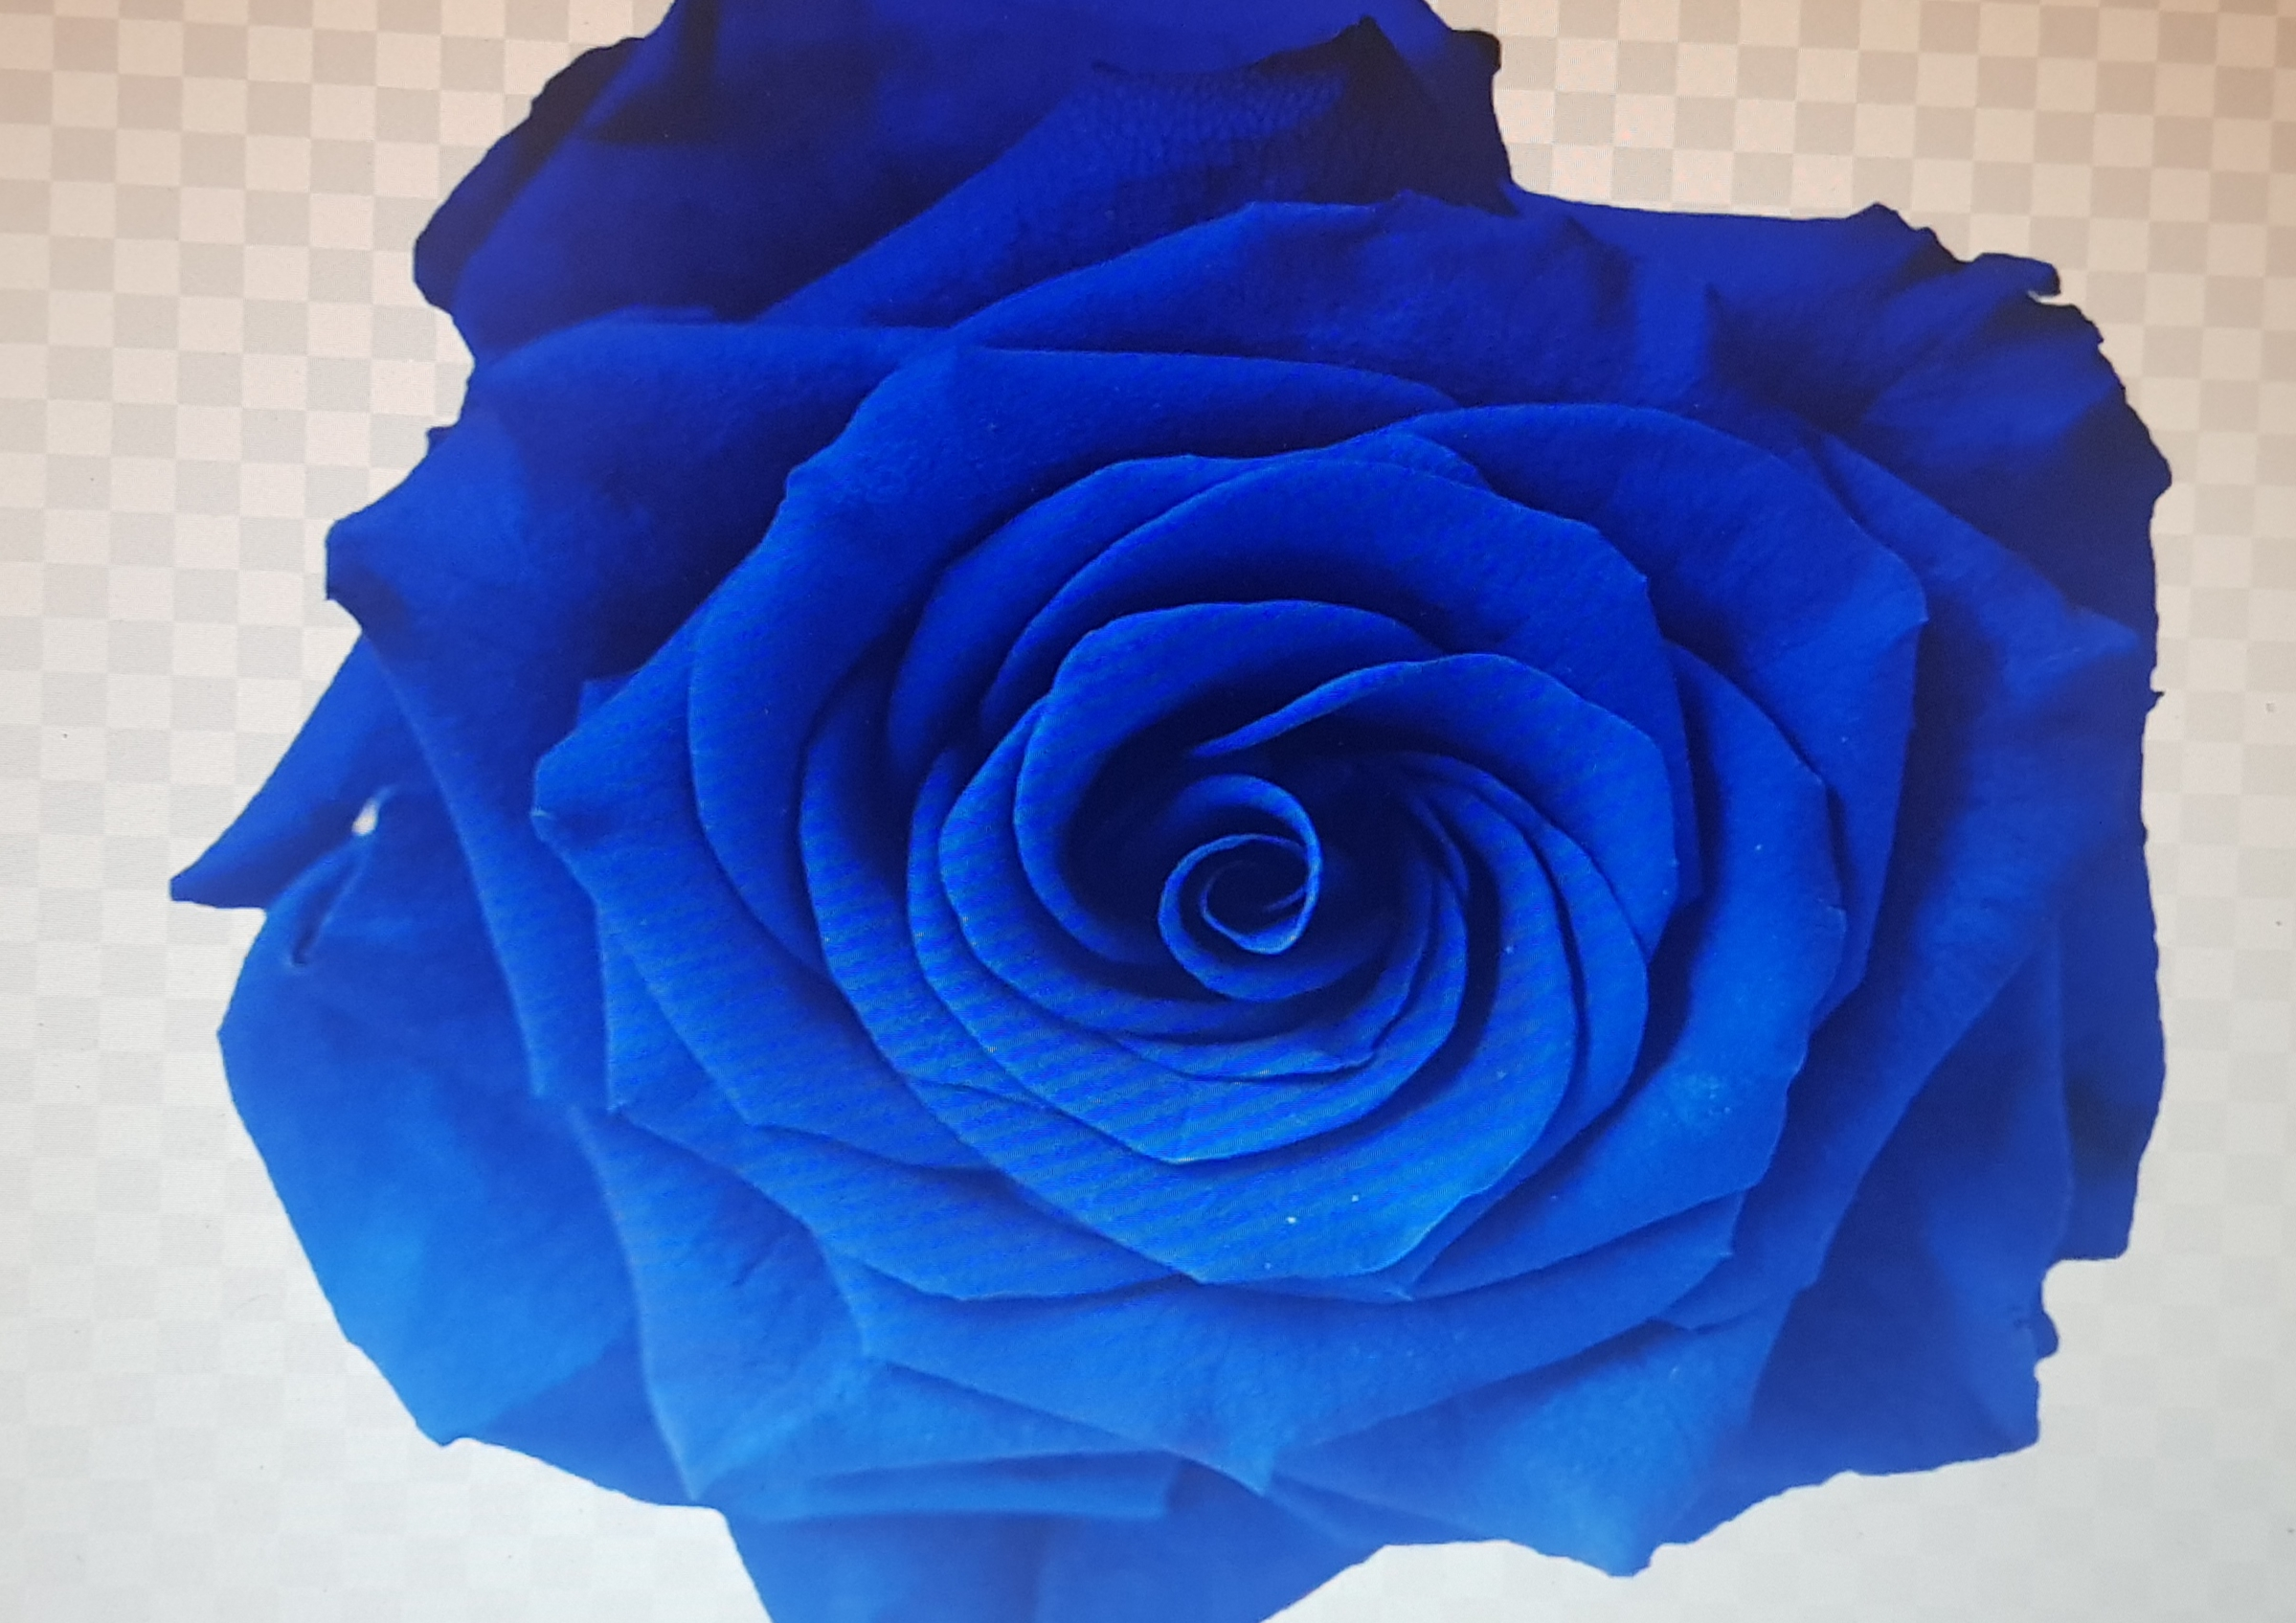Blue: (172, 16, 2180, 1623)
